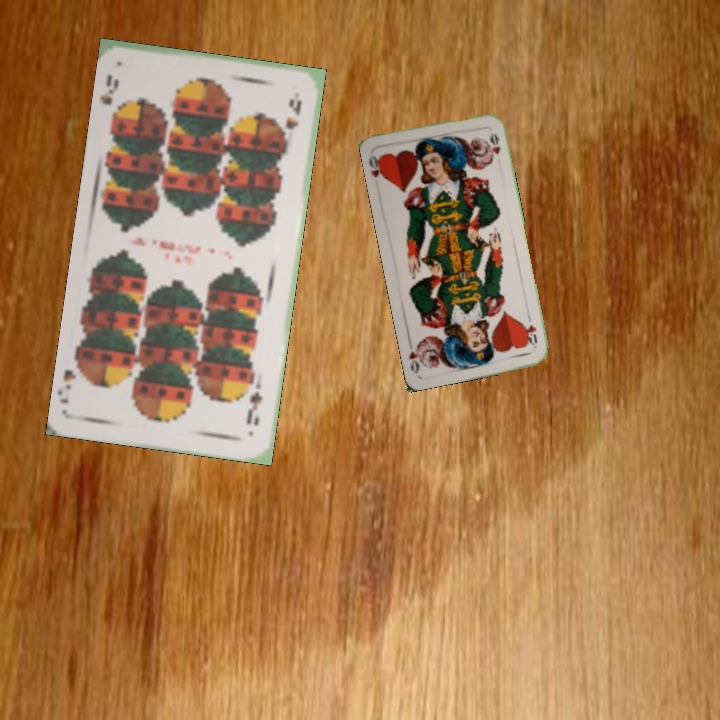HO: (521, 311, 540, 351), (364, 151, 388, 182)
S9: (98, 70, 125, 124), (242, 387, 265, 428)
